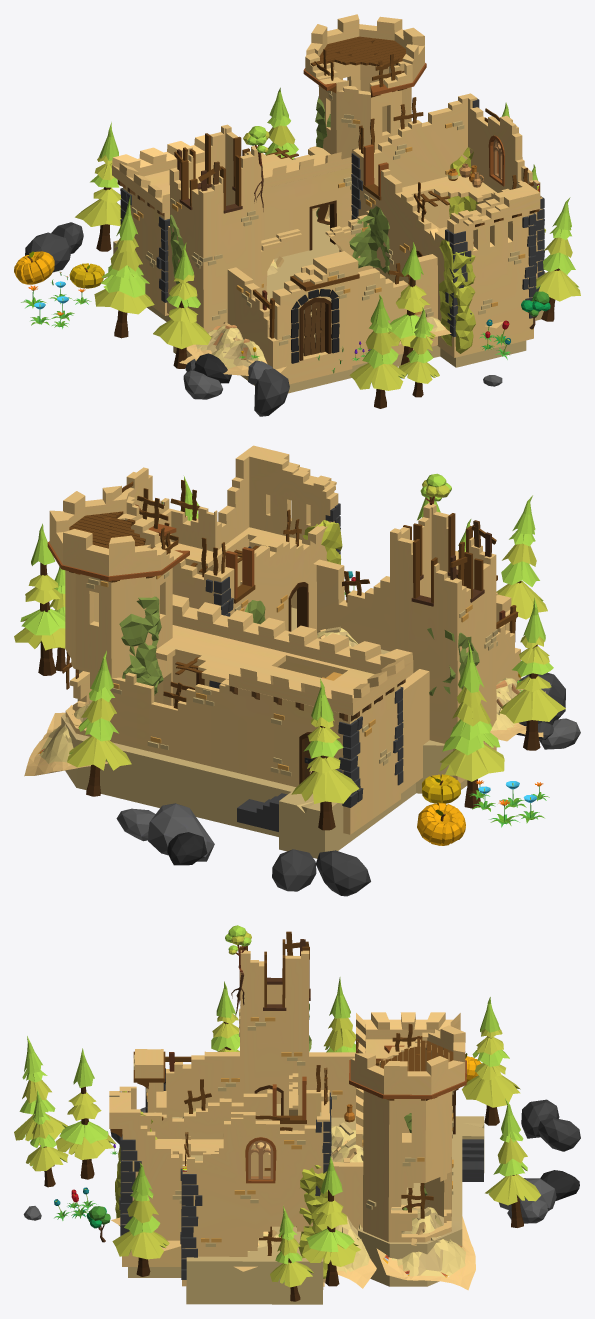
File: Sketchfab_Scene.gltf
The picture shows the model from 3 angles, top to bottom: view 1: azimuth 30°, elevation 25°; view 2: azimuth 150°, elevation 25°; view 3: azimuth 270°, elevation 25°; orthographic projection. The views are drawn at different scales.
Parts seen in each view (by area): view 1: Object_6, Object_5, Object_8, Object_10, Object_13, Object_9, Object_12, Object_11, Object_4, Object_7; view 2: Object_6, Object_8, Object_5, Object_13, Object_11, Object_10, Object_4, Object_9, Object_12, Object_7; view 3: Object_8, Object_6, Object_5, Object_10, Object_11, Object_13, Object_9, Object_12, Object_4, Object_7.
Part boxes in pixels (x1,y1,x2,y2): Object_6: [120, 93, 544, 384]; Object_5: [25, 36, 533, 416]; Object_8: [112, 14, 545, 393]; Object_10: [75, 122, 439, 408]; Object_13: [169, 124, 458, 356]; Object_9: [21, 87, 580, 360]; Object_12: [30, 163, 509, 363]; Object_11: [51, 87, 550, 363]; Object_4: [14, 96, 478, 308]; Object_7: [179, 322, 334, 375]; Object_6: [24, 445, 511, 834]; Object_8: [47, 485, 497, 858]; Object_5: [62, 480, 580, 896]; Object_13: [390, 503, 496, 783]; Object_11: [14, 523, 504, 808]; Object_10: [291, 495, 565, 830]; Object_4: [119, 520, 479, 845]; Object_9: [86, 476, 519, 827]; Object_12: [196, 577, 549, 823]; Object_7: [490, 677, 545, 741]; Object_8: [110, 1012, 484, 1304]; Object_6: [109, 925, 475, 1290]; Object_5: [23, 931, 580, 1255]; Object_10: [14, 981, 520, 1187]; Object_11: [86, 977, 540, 1301]; Object_13: [240, 950, 354, 1122]; Object_9: [54, 1008, 453, 1279]; Object_12: [67, 1068, 455, 1278]; Object_4: [118, 1003, 481, 1235]; Object_7: [182, 1110, 376, 1288].
Bounding box in the file's own units: 20.99 × 10.26 × 21.15.
1 material, 1 textured.
